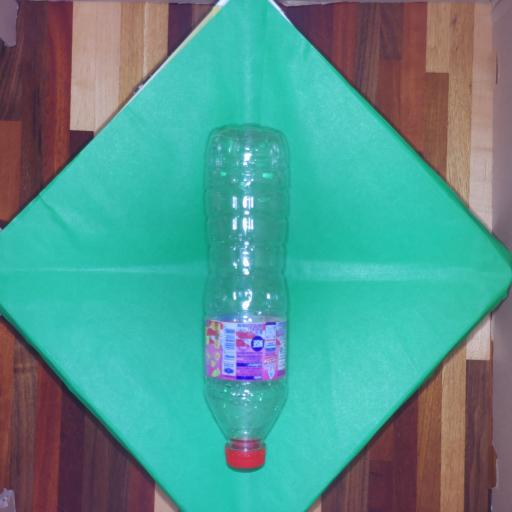bottle: (190, 106, 301, 485)
